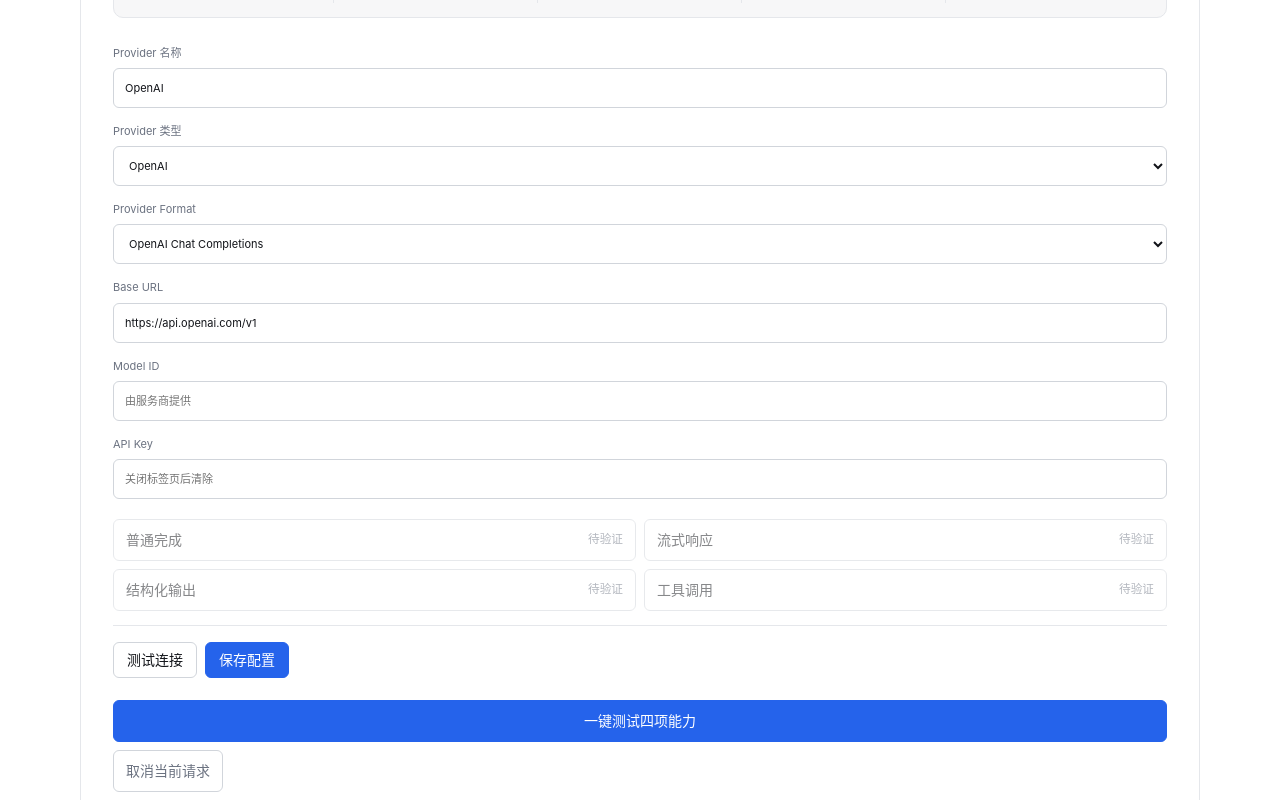
ConnectionLab capability status › shows failed after a request error instead of leaving the capability pending
The width and height of the screenshot is (1280, 800).
(page scrolled)
Type "test-model" into the field labelled "Model ID" at (640, 401), box [113,381,1167,421]
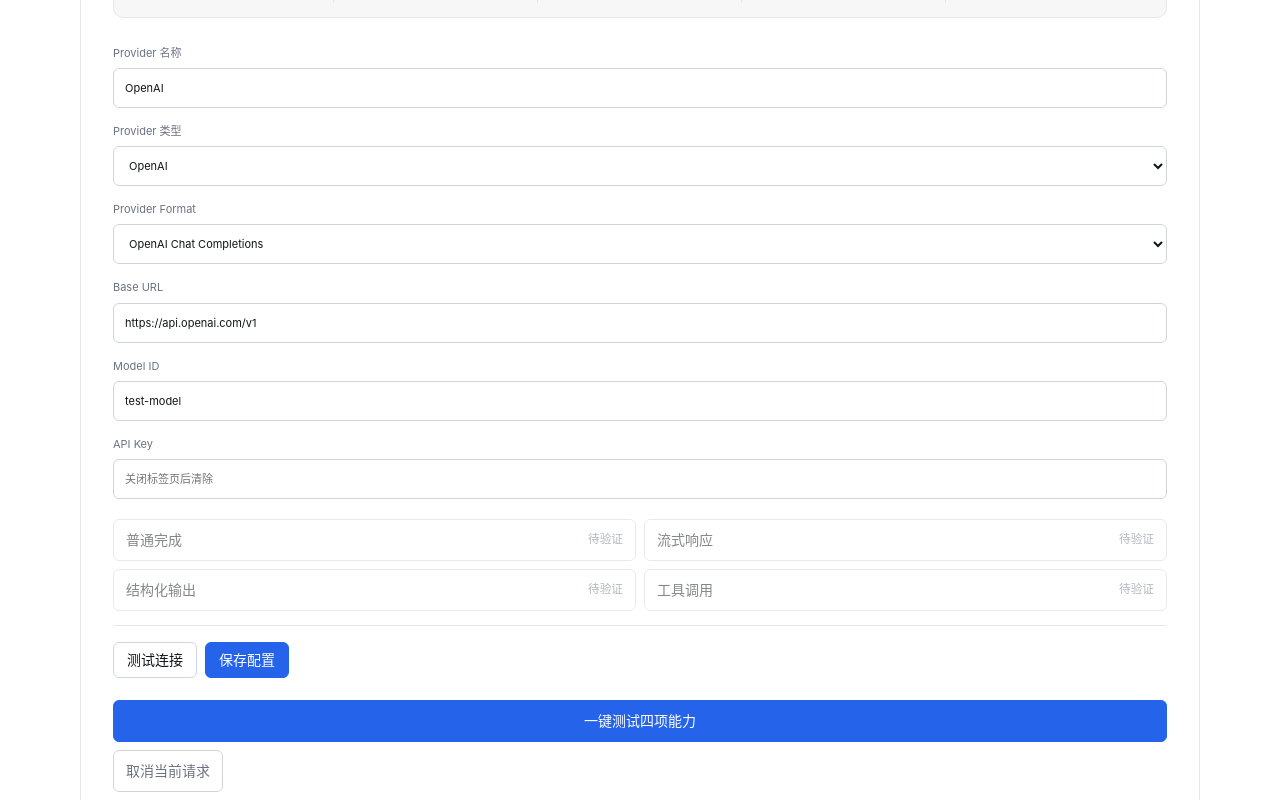
Type "test-only-key" into the password field labelled "API Key" at (640, 479), box [113,459,1167,499]
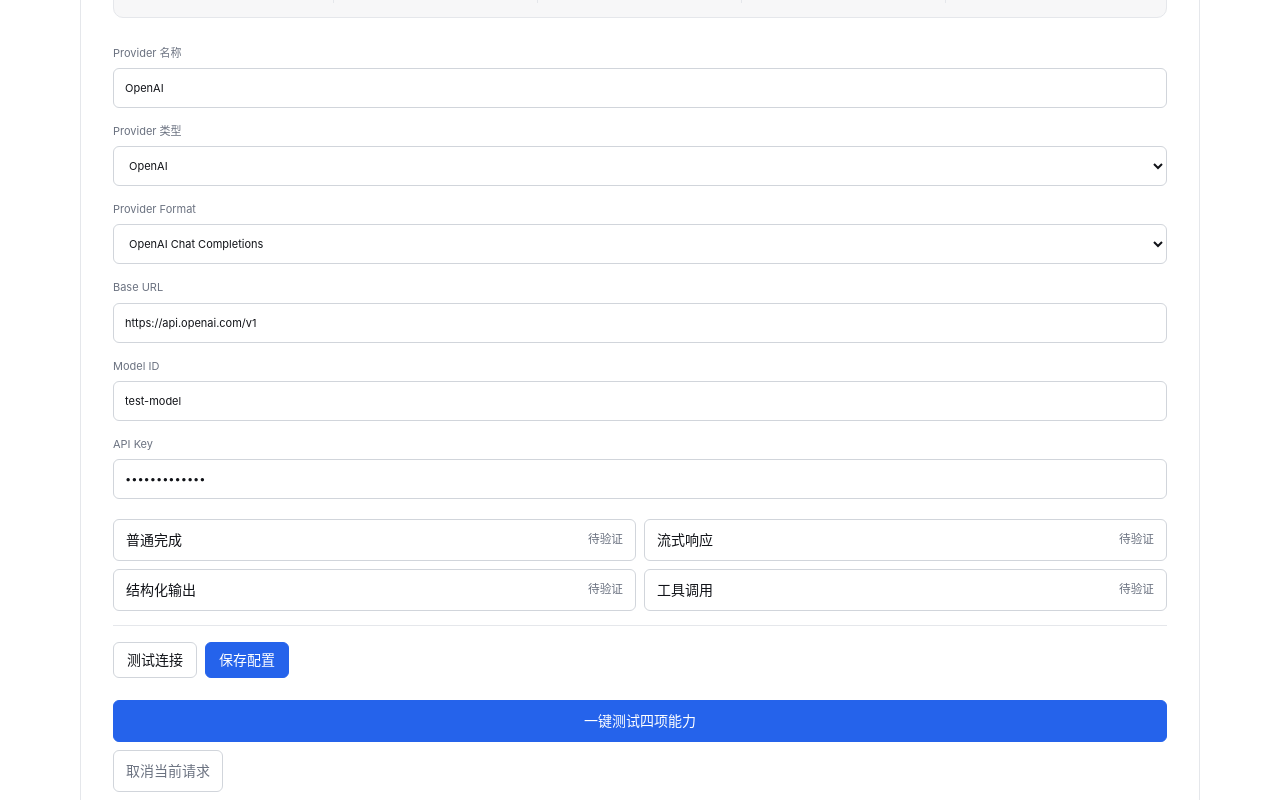
Click the button "普通完成 待验证" at (154, 540), box [113,519,636,561]
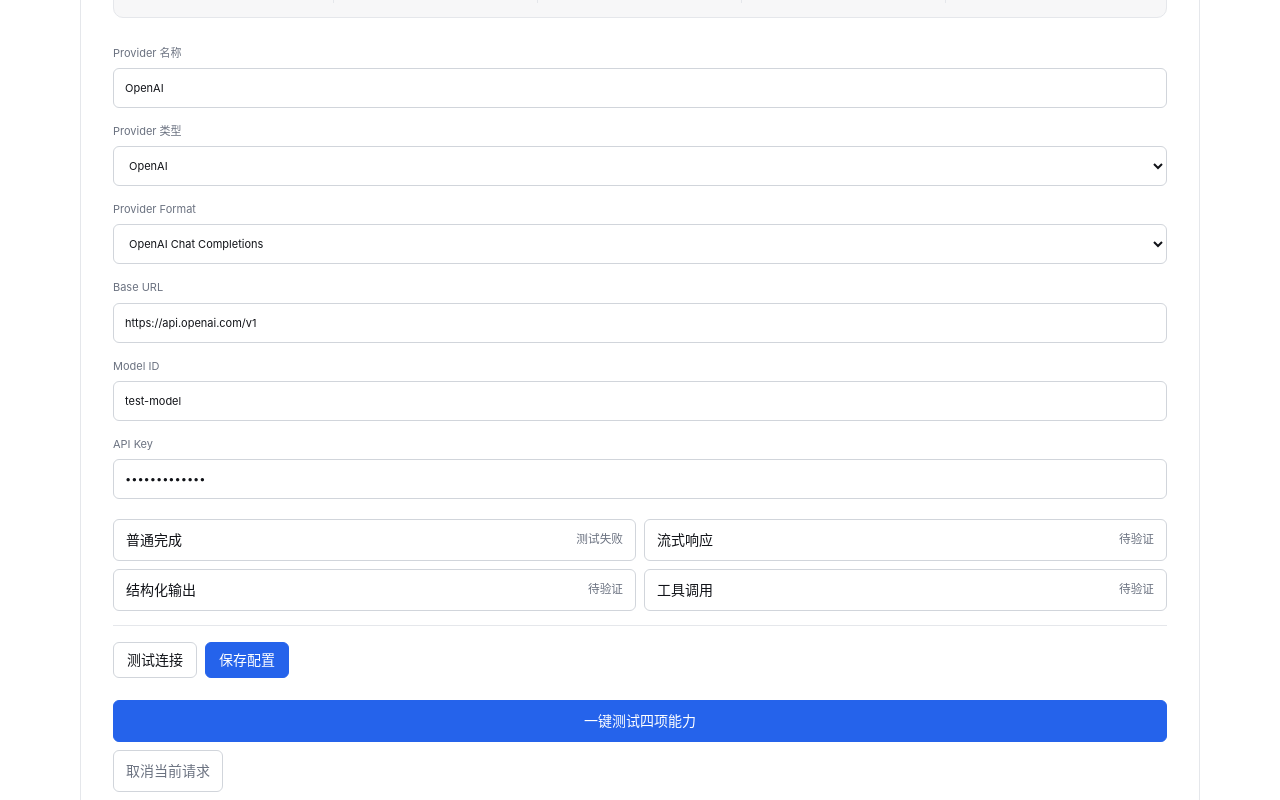
Expected: the button "普通完成 测试失败" is shown, [113,519,636,561]
